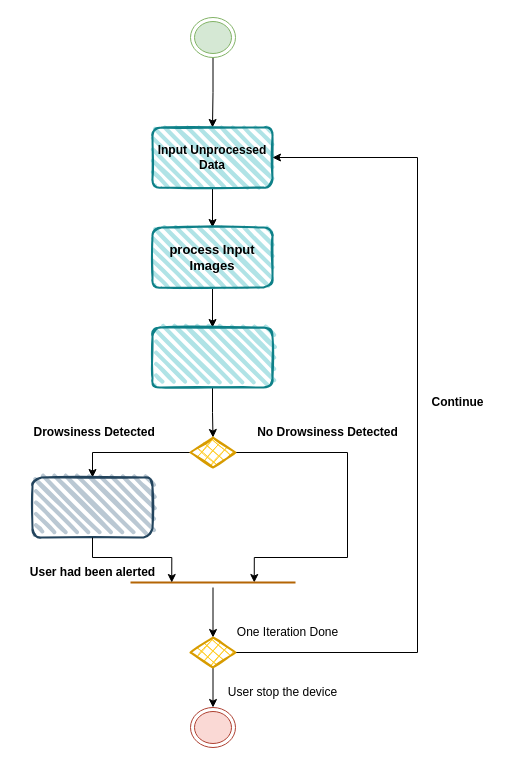
This 514x765 diagram has some shape labels left out. The shapes that lost their labels are listed below. From the top down, each one's centre as x and y in pixels, then its label:
pixel 212 357: Detect Drowsiness
pixel 92 507: Alert User
